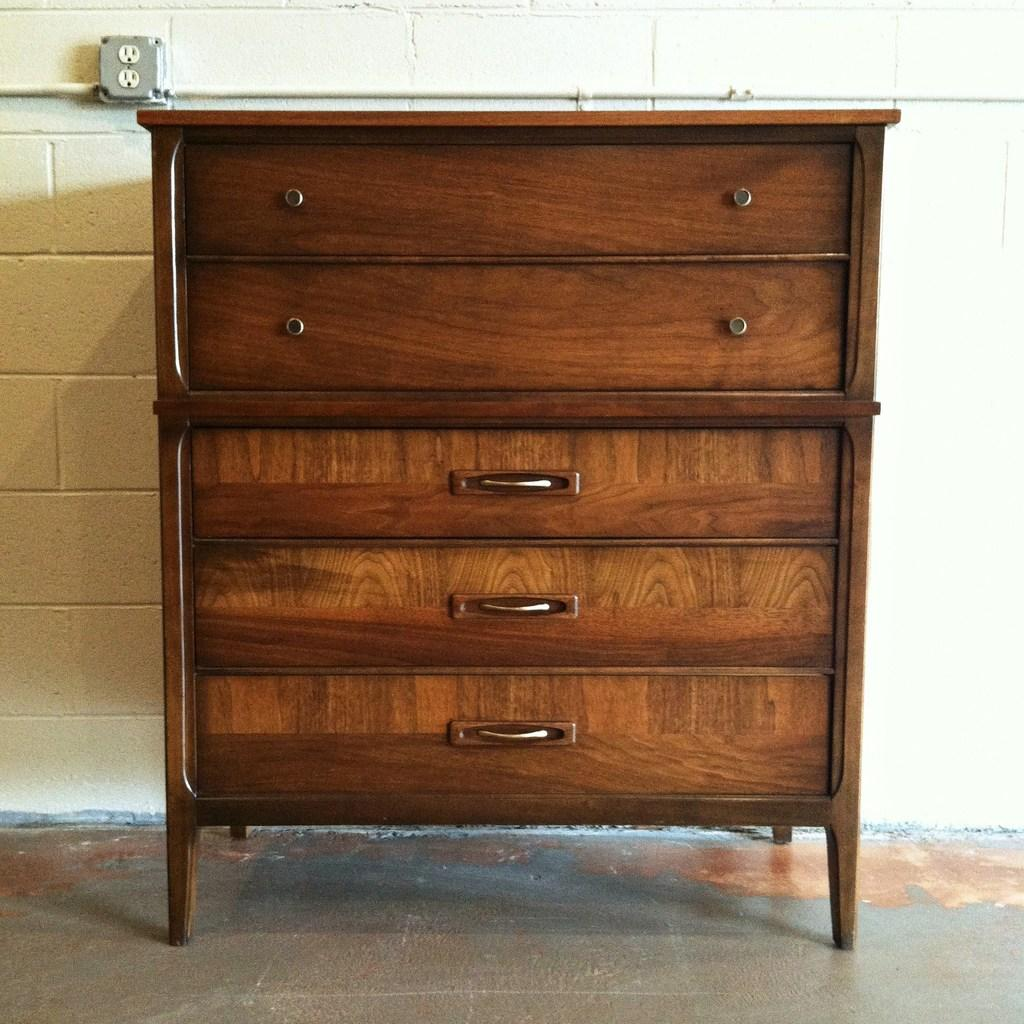cabinet_door: (191, 253, 845, 391), (196, 538, 839, 667), (194, 674, 836, 794), (194, 134, 846, 252), (190, 425, 846, 535)
handle: (483, 462, 553, 505), (481, 586, 552, 627), (482, 718, 548, 751), (732, 169, 754, 215), (276, 182, 308, 213), (724, 307, 748, 344), (283, 306, 308, 338)
